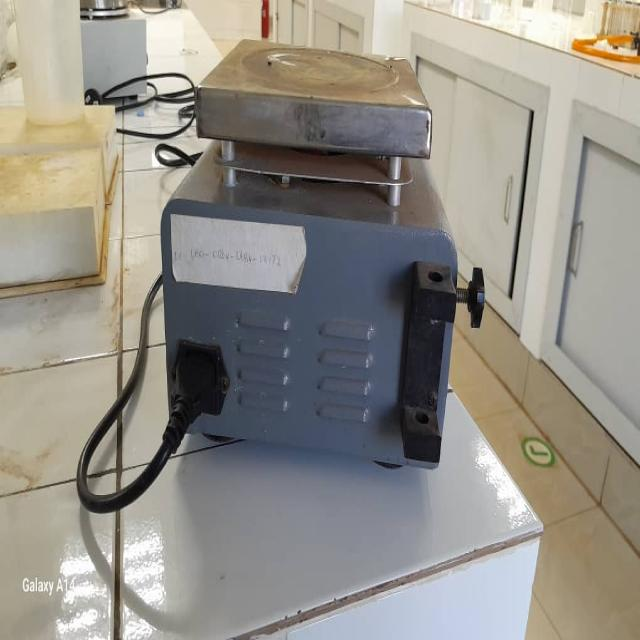Magnetic Stirrer: (152, 21, 462, 486)
